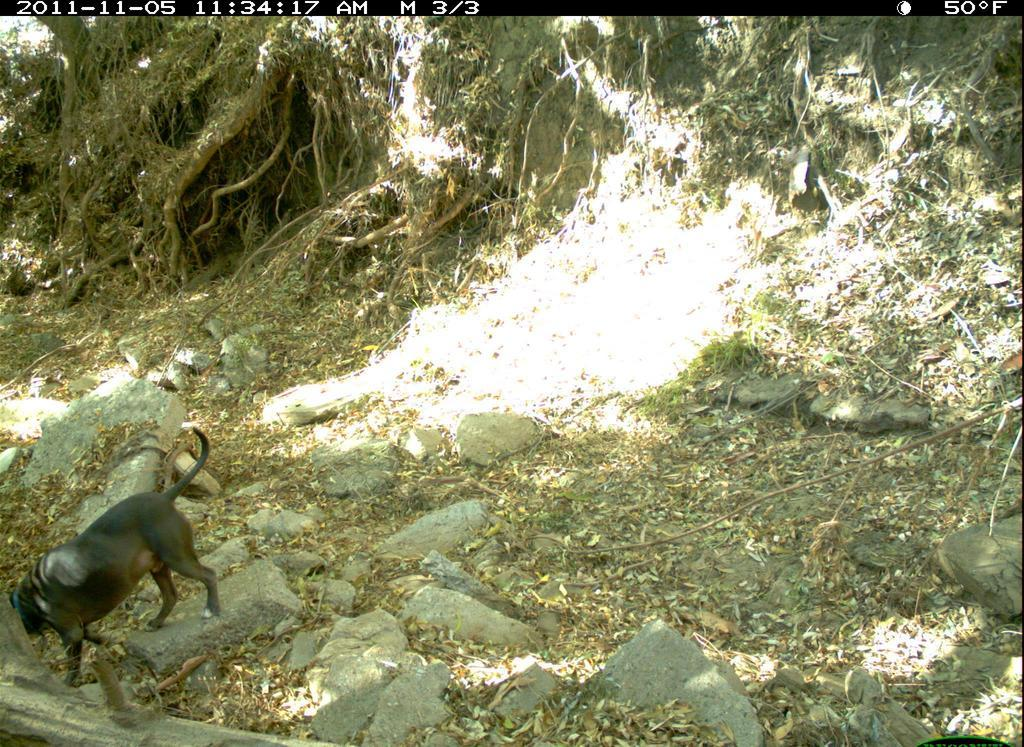dog: (11, 427, 230, 689)
